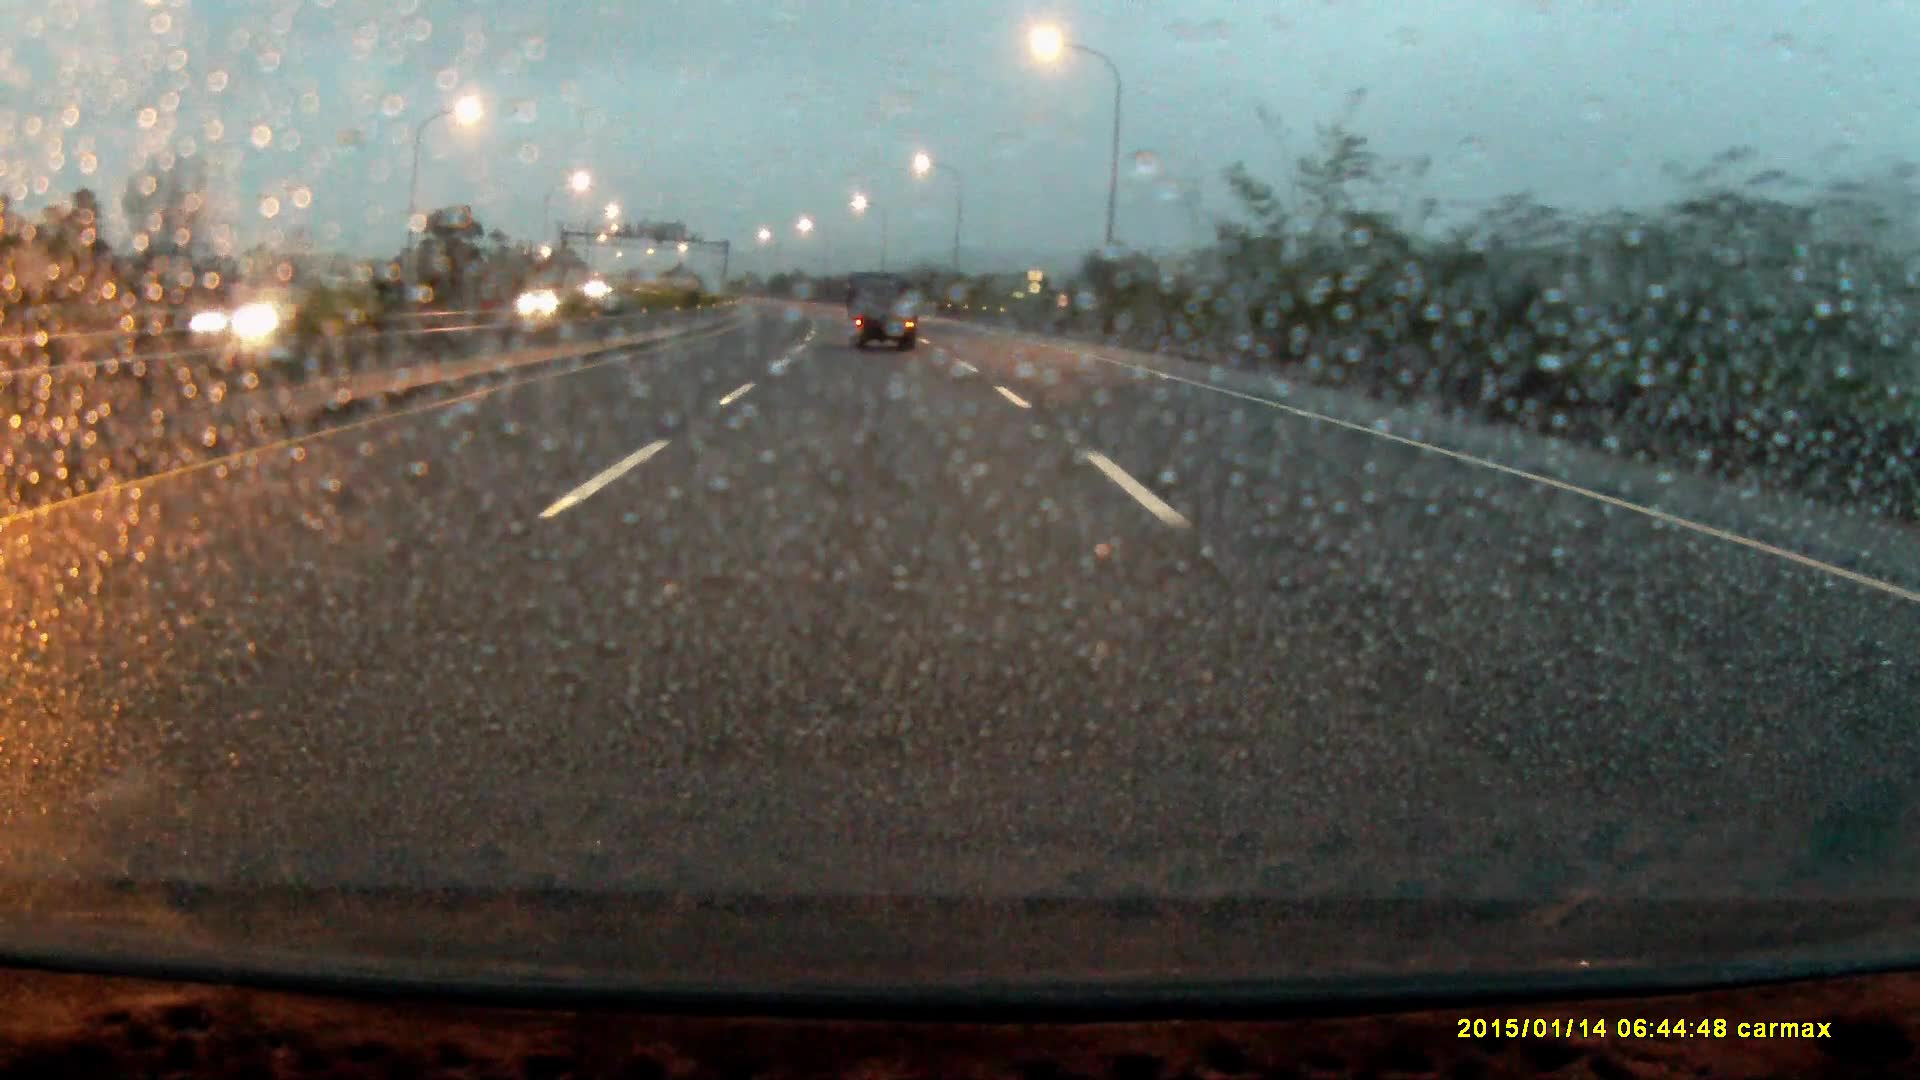vehicle: (845, 274, 918, 352), (517, 291, 576, 320)
